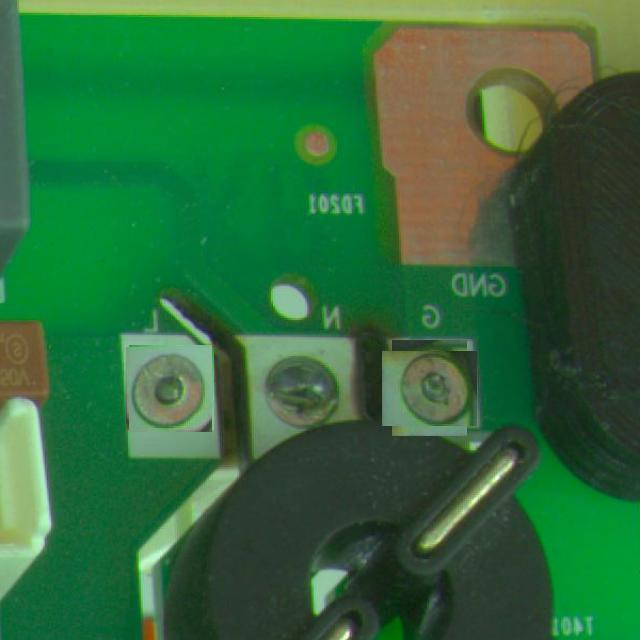lack_of_part: (128, 346, 213, 431), (387, 346, 472, 431)
